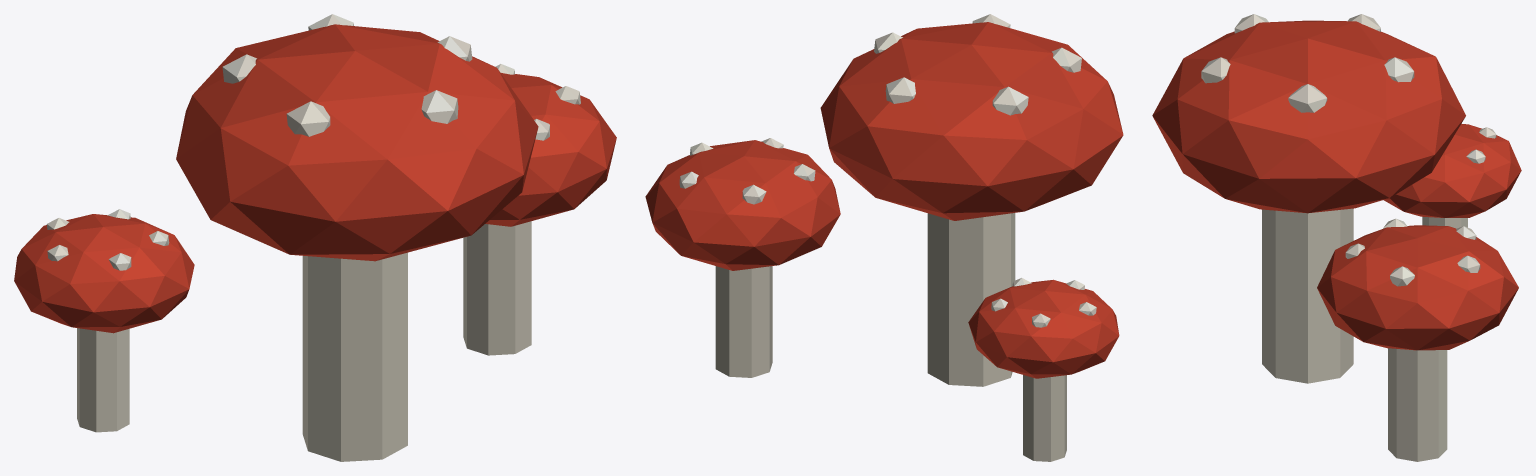
Rendered from Mushroom.glb.
3 renders of one model, left to right at view 1: azimuth 30°, elevation 25°; view 2: azimuth 150°, elevation 25°; view 3: azimuth 270°, elevation 25°, orthographic. The views are drawn at different scales.
Visible parts, largest first — view 1: Mushroom; view 2: Mushroom; view 3: Mushroom.
Part boxes in pixels (box(x1,y1,x2,y2)): Mushroom: box(14, 14, 616, 461); Mushroom: box(645, 14, 1123, 461); Mushroom: box(1152, 14, 1521, 461).
Bounding box in the file's own units: 0.5861 × 0.3932 × 0.4039.
